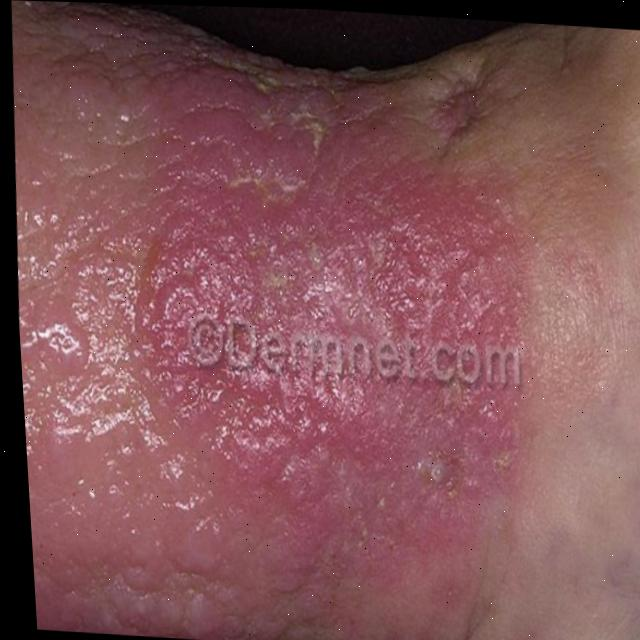Eczema: (0, 0, 563, 640)
